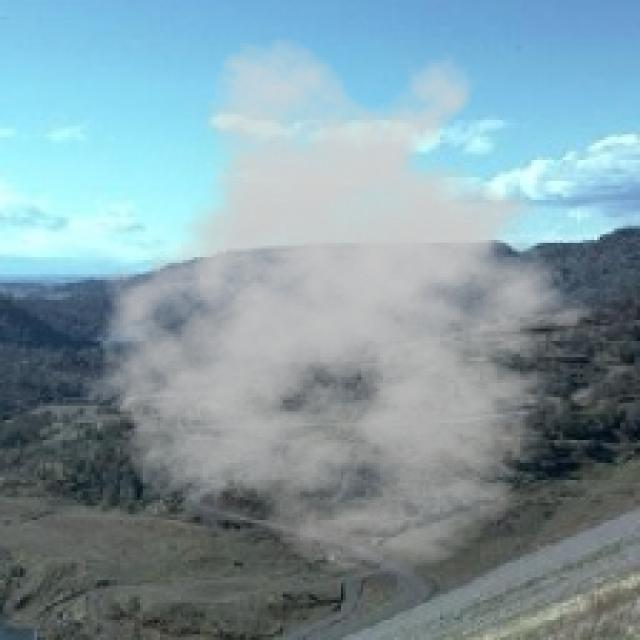Smoke: (68, 34, 623, 574)
